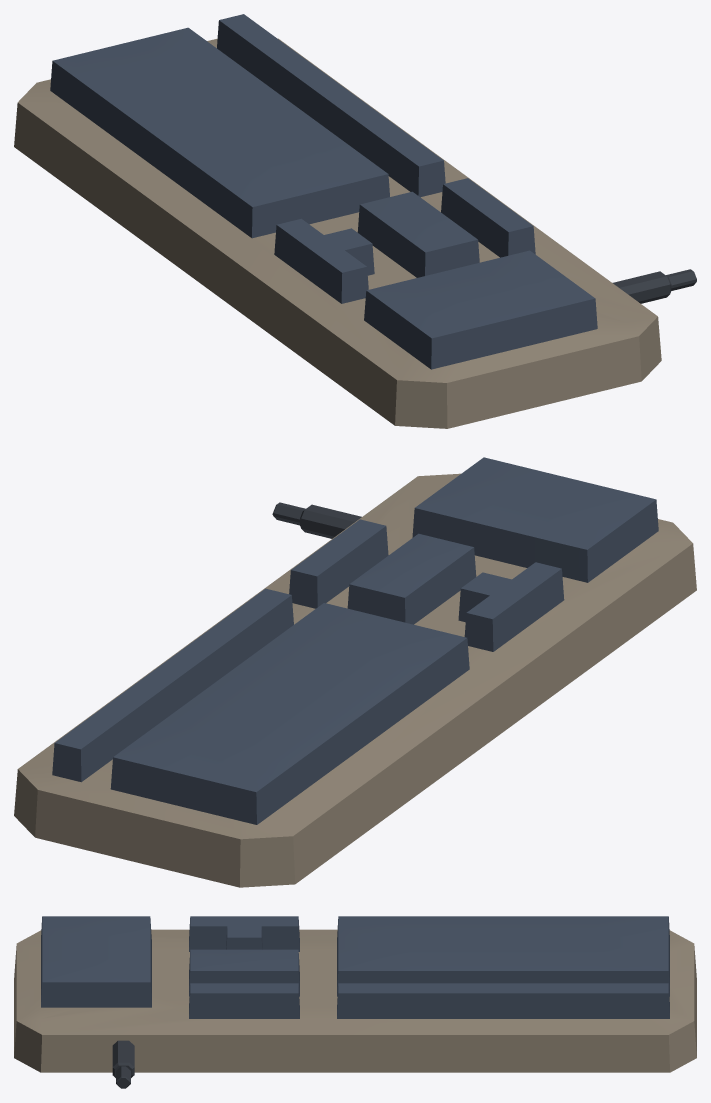
Rendered from Teclado.fbx.
3 renders of one model, top to bottom at view 1: azimuth 30°, elevation 25°; view 2: azimuth 150°, elevation 25°; view 3: azimuth 270°, elevation 25°, orthographic. The views are drawn at different scales.
Parts seen in each view (by area): view 1: Teclado2; view 2: Teclado2; view 3: Teclado2.
Boxes of the visible parts, <box> form: Teclado2: <box>14,14,696,428</box>; Teclado2: <box>14,457,696,887</box>; Teclado2: <box>14,916,696,1088</box>.
Size of the model in its own units: 0.2646 by 0.0575 by 0.5445.
